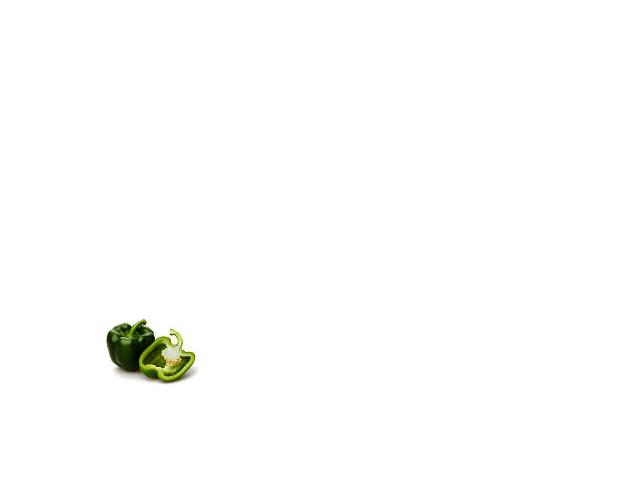bell_pepper: (136, 326, 197, 380)
